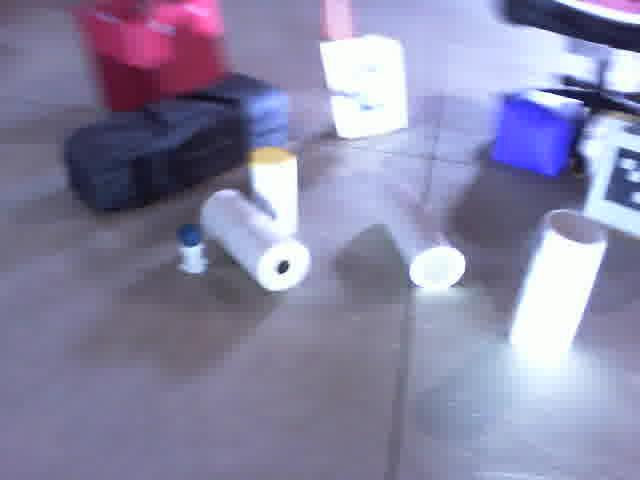coral: (504, 206, 609, 364), (371, 172, 468, 293)
